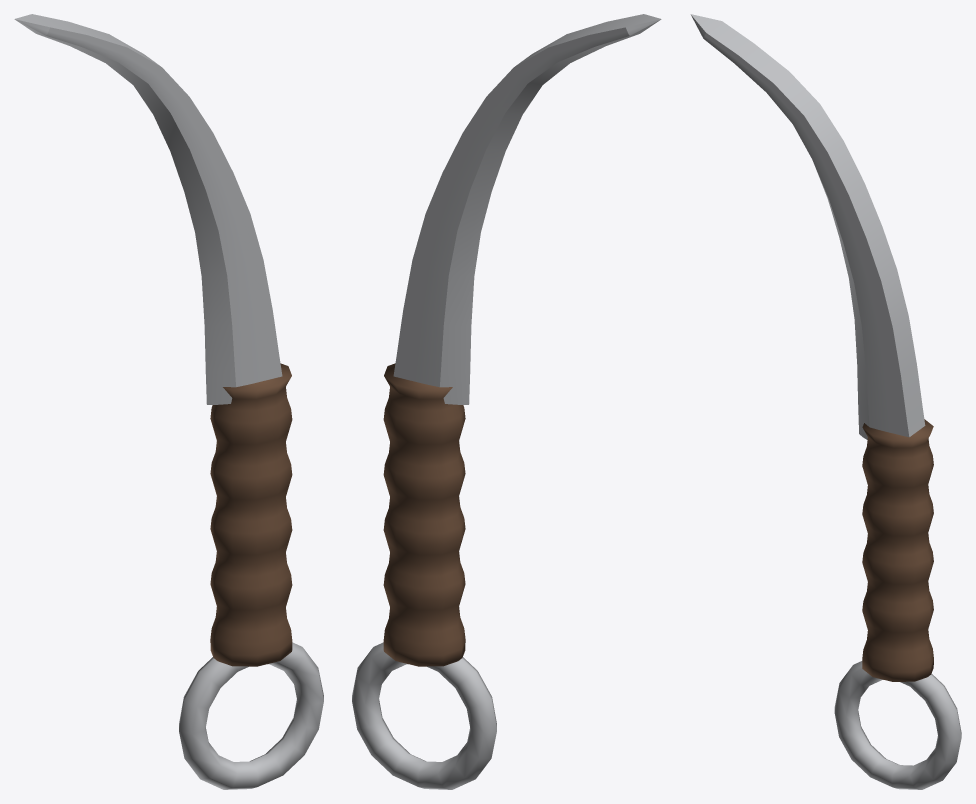
Rendered from kerambit.glb.
3 views of the same model, side by side, from view 1: azimuth 30°, elevation 25°; view 2: azimuth 150°, elevation 25°; view 3: azimuth 330°, elevation 25° (orthographic). The views are drawn at different scales.
Parts seen in each view (by area): view 1: kerambit; view 2: kerambit; view 3: kerambit.
Boxes of the visible parts, left/top/right/bottom form: kerambit: left=14, top=14, right=323, bottom=789; kerambit: left=352, top=14, right=661, bottom=789; kerambit: left=690, top=14, right=961, bottom=789.
Bounding box in the file's own units: 0.235 × 0.6 × 0.0462.
